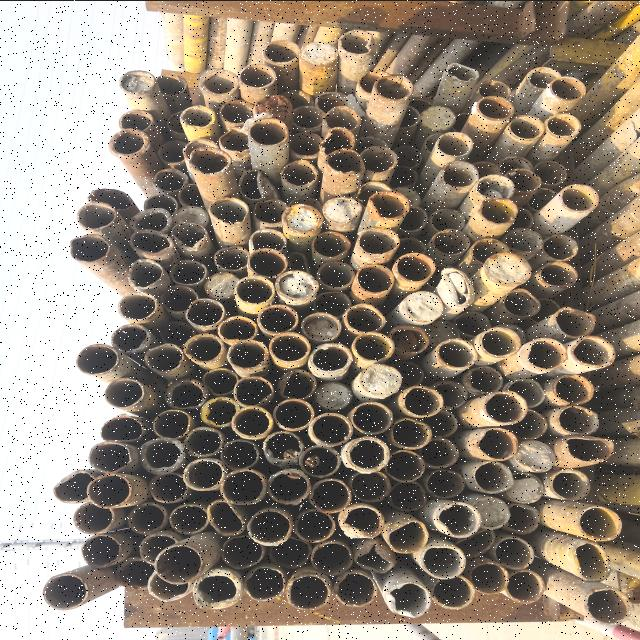pipe: (192, 568, 244, 608), (154, 544, 202, 584), (584, 587, 632, 625), (42, 572, 89, 610), (247, 507, 293, 545), (220, 468, 268, 504), (86, 472, 132, 508), (139, 436, 185, 472), (484, 252, 532, 286), (286, 574, 331, 610), (436, 502, 481, 538), (420, 544, 466, 579), (268, 468, 312, 504), (346, 436, 390, 472), (578, 505, 622, 541), (243, 565, 286, 601), (483, 390, 528, 424), (572, 542, 610, 582), (80, 532, 122, 568), (334, 571, 376, 607), (388, 582, 430, 618), (432, 574, 474, 610), (221, 534, 265, 568), (309, 412, 353, 446), (340, 504, 384, 538), (206, 498, 245, 536), (570, 336, 616, 368), (262, 429, 304, 464), (182, 457, 225, 491), (524, 337, 568, 370), (53, 469, 95, 503), (311, 541, 353, 575), (294, 508, 336, 542), (310, 478, 352, 512), (354, 540, 396, 574), (387, 519, 429, 553), (514, 438, 556, 472), (88, 441, 132, 473), (268, 536, 312, 568), (348, 470, 392, 502), (358, 363, 402, 395), (74, 500, 115, 534), (472, 460, 513, 494), (126, 501, 168, 534), (350, 401, 392, 434), (383, 449, 425, 482), (492, 536, 534, 569), (548, 468, 590, 501), (75, 343, 118, 375), (147, 569, 190, 601), (165, 378, 209, 409), (469, 560, 509, 594), (505, 569, 545, 603), (232, 406, 274, 438), (272, 398, 314, 430), (299, 445, 341, 477), (436, 338, 478, 370), (554, 306, 596, 338), (276, 270, 320, 300), (478, 427, 518, 460), (200, 396, 242, 427), (454, 527, 496, 558), (115, 556, 155, 588), (139, 532, 179, 564), (169, 502, 209, 534), (148, 470, 188, 502), (391, 418, 431, 450), (402, 385, 442, 417), (403, 290, 443, 322), (470, 496, 510, 528), (104, 377, 145, 408), (553, 373, 594, 404), (129, 228, 174, 256), (182, 333, 224, 363), (226, 339, 268, 369), (268, 332, 310, 362), (257, 304, 299, 334), (310, 342, 352, 372), (300, 311, 342, 341), (352, 330, 394, 360), (344, 303, 386, 333), (479, 327, 521, 357), (557, 404, 599, 434), (564, 437, 614, 462), (234, 375, 274, 406), (508, 408, 548, 439), (506, 377, 546, 408), (188, 146, 232, 174), (183, 426, 224, 456), (282, 203, 323, 233), (505, 471, 543, 503), (110, 322, 150, 352), (77, 200, 117, 230), (152, 408, 192, 438), (144, 342, 184, 372), (159, 284, 199, 314), (184, 297, 224, 327), (234, 274, 274, 304), (248, 247, 288, 277), (354, 264, 394, 294), (389, 324, 429, 354), (395, 252, 435, 282), (418, 438, 458, 468), (559, 182, 599, 212), (100, 415, 144, 442), (220, 439, 258, 470), (389, 480, 427, 511), (502, 287, 541, 317), (357, 227, 400, 254), (118, 291, 158, 320), (248, 117, 288, 146), (369, 190, 409, 219), (426, 469, 466, 498), (109, 128, 150, 156), (208, 196, 249, 224), (310, 230, 351, 258), (314, 380, 352, 410), (440, 267, 470, 305), (70, 233, 110, 261), (198, 68, 238, 96), (252, 94, 292, 122), (322, 196, 362, 224), (478, 196, 518, 224), (130, 208, 172, 234), (216, 315, 258, 341), (316, 260, 355, 288), (128, 258, 164, 288), (280, 368, 316, 398), (325, 148, 365, 175), (313, 290, 351, 318), (440, 160, 479, 187), (320, 126, 356, 155), (358, 146, 398, 172), (470, 238, 510, 264), (421, 409, 458, 437), (506, 504, 540, 534), (539, 260, 578, 286), (172, 222, 208, 250), (204, 271, 240, 299), (282, 159, 318, 187), (467, 366, 503, 394), (502, 228, 544, 252), (542, 232, 578, 260), (432, 228, 469, 255), (201, 368, 239, 394), (169, 258, 207, 284), (238, 62, 276, 88), (375, 74, 413, 100), (453, 310, 491, 336), (476, 173, 514, 199), (476, 94, 514, 120), (544, 112, 582, 138), (357, 180, 392, 208), (424, 318, 459, 346), (432, 381, 468, 408), (88, 188, 132, 210), (213, 245, 250, 271), (300, 40, 337, 66), (419, 104, 456, 130), (119, 69, 157, 94), (262, 39, 300, 64), (288, 131, 324, 157), (508, 114, 544, 140), (249, 228, 287, 252), (322, 106, 360, 130), (437, 130, 472, 156), (159, 321, 195, 346), (340, 28, 372, 56), (392, 360, 424, 388), (504, 168, 541, 192), (254, 198, 288, 224), (180, 104, 216, 128), (219, 100, 255, 124), (391, 236, 427, 260), (430, 208, 466, 232), (550, 76, 586, 100), (172, 205, 210, 227), (182, 138, 220, 160), (218, 126, 250, 152), (237, 167, 263, 199), (142, 192, 178, 215), (526, 66, 562, 89), (154, 168, 188, 192), (291, 105, 325, 129), (358, 70, 392, 94), (534, 160, 568, 184), (496, 155, 534, 176), (118, 109, 154, 131), (398, 206, 428, 232), (156, 139, 188, 163), (156, 72, 188, 96), (390, 144, 422, 168), (529, 298, 561, 322), (280, 88, 314, 110), (314, 91, 348, 113), (527, 187, 559, 210), (388, 164, 418, 188), (426, 264, 456, 288), (354, 135, 388, 155), (445, 62, 479, 82), (506, 207, 534, 231), (178, 183, 205, 207), (478, 80, 510, 98), (393, 186, 421, 206), (286, 251, 310, 274), (166, 108, 186, 134), (398, 106, 420, 128), (424, 132, 446, 153)
